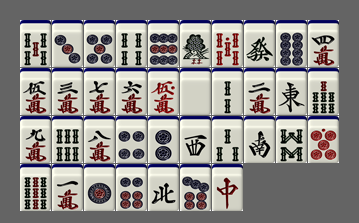0m: (148, 68, 179, 115)
0p: (308, 116, 339, 163)
0s: (212, 20, 243, 67)
1m: (52, 164, 83, 211)
1p: (84, 164, 115, 211)
1s: (180, 20, 211, 67)
1z: (276, 68, 307, 115)
2m: (244, 68, 275, 115)
2p: (148, 116, 179, 163)
2s: (212, 68, 243, 115)
2z: (244, 116, 275, 163)
3m: (52, 68, 83, 115)
3p: (52, 20, 83, 67)
3s: (212, 116, 243, 163)
3z: (180, 116, 211, 163)
4m: (308, 20, 339, 67)
4p: (116, 116, 147, 163)
4s: (116, 20, 147, 67)
4z: (148, 164, 179, 211)
5m: (20, 68, 51, 115)
5p: (84, 20, 115, 67)
5s: (20, 20, 51, 67)
5z: (180, 68, 211, 115)
6m: (116, 68, 147, 115)
6p: (116, 164, 147, 211)
6s: (52, 116, 83, 163)
6z: (244, 20, 275, 67)
7m: (84, 68, 115, 115)
7p: (180, 164, 211, 211)
7s: (308, 68, 339, 115)
7z: (212, 164, 243, 211)
8m: (84, 116, 115, 163)
8p: (276, 20, 307, 67)
8s: (276, 116, 307, 163)
9m: (20, 116, 51, 163)
9p: (148, 20, 179, 67)
9s: (20, 164, 51, 211)
